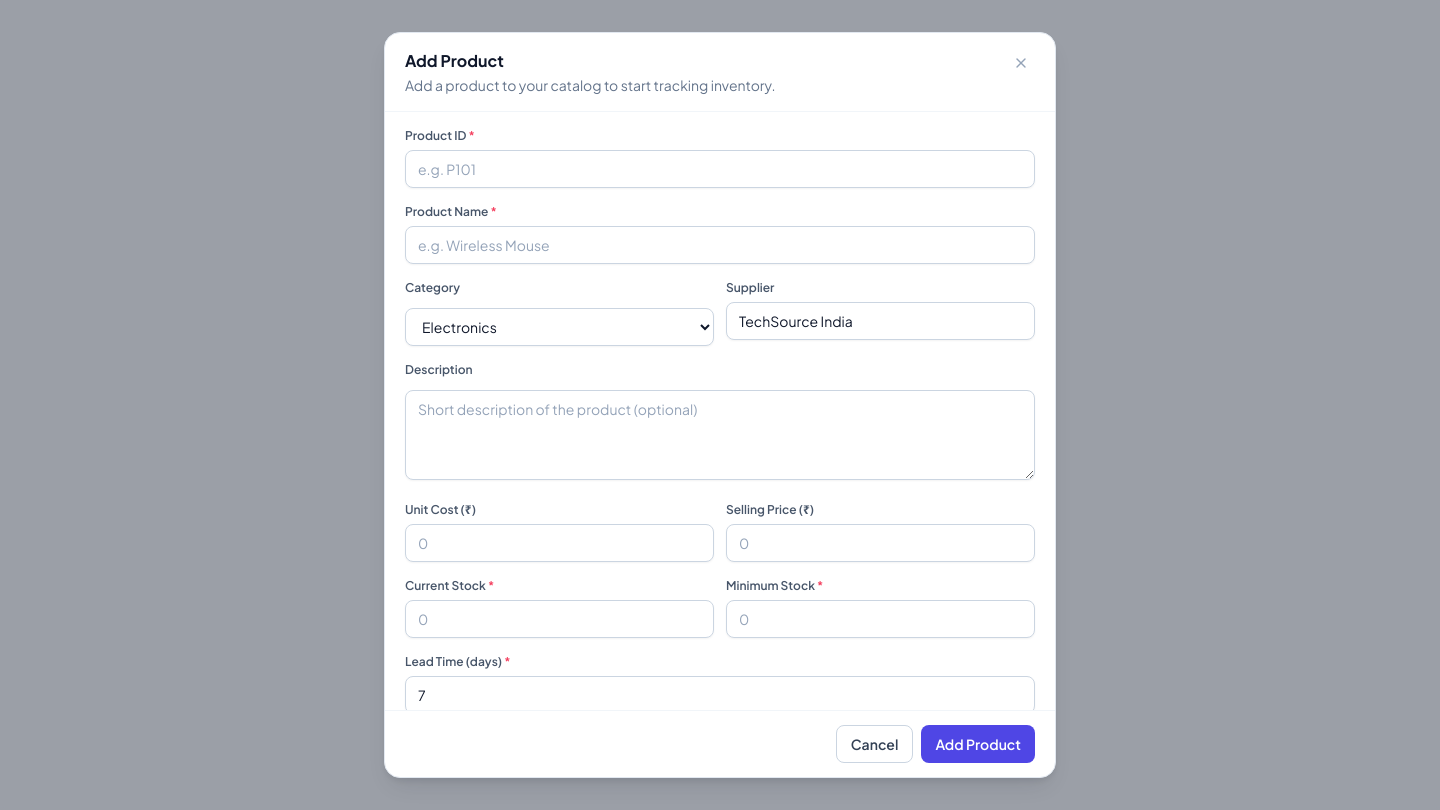
adding a product › refuses to submit while the three stock fields are empty, naming the first one
Type "P101" into the field labelled "Product ID *".
click(720, 169); type("P101")  # box [405, 150, 1035, 188]
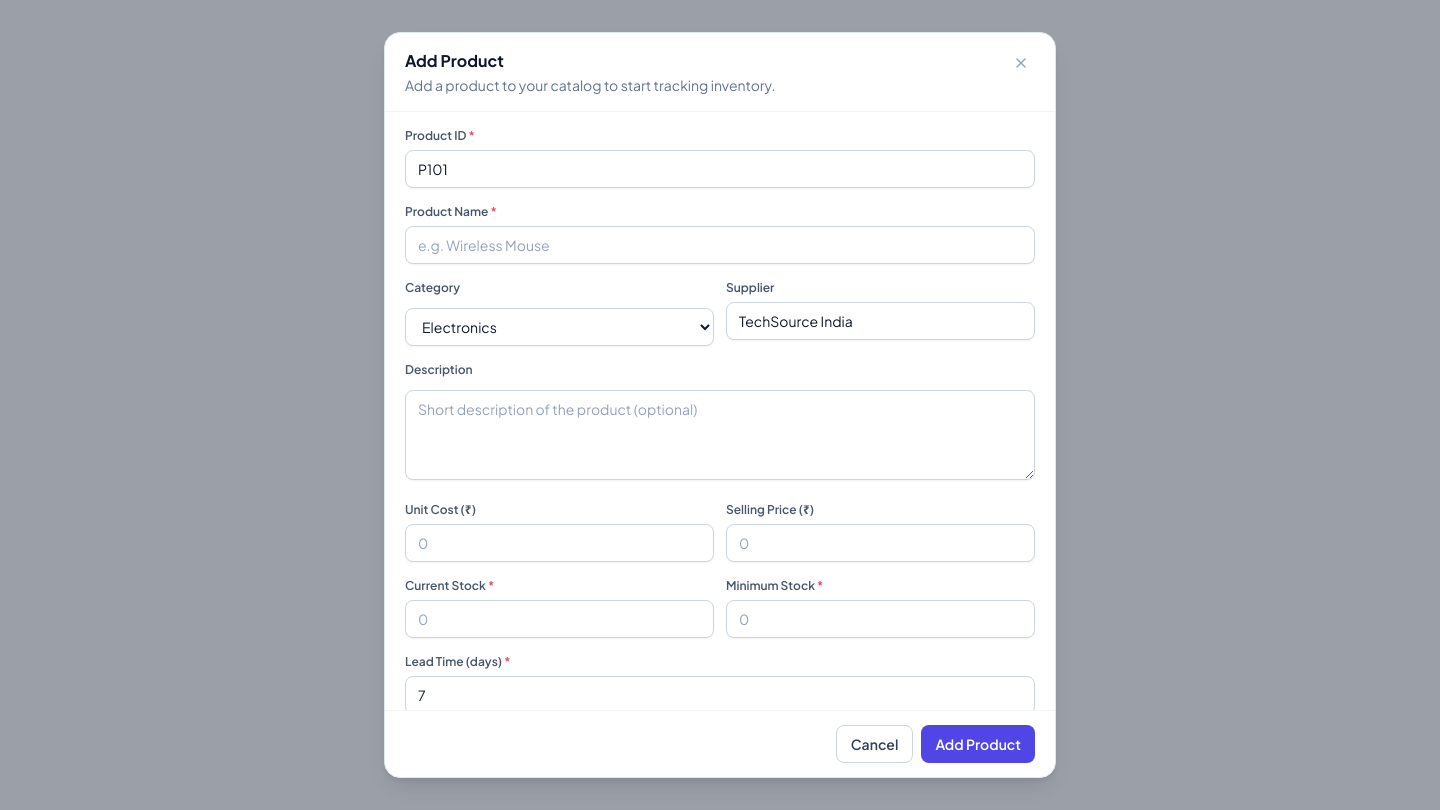
Type "Wireless Mouse" into the field labelled "Product Name *".
click(720, 245); type("Wireless Mouse")  # box [405, 226, 1035, 264]
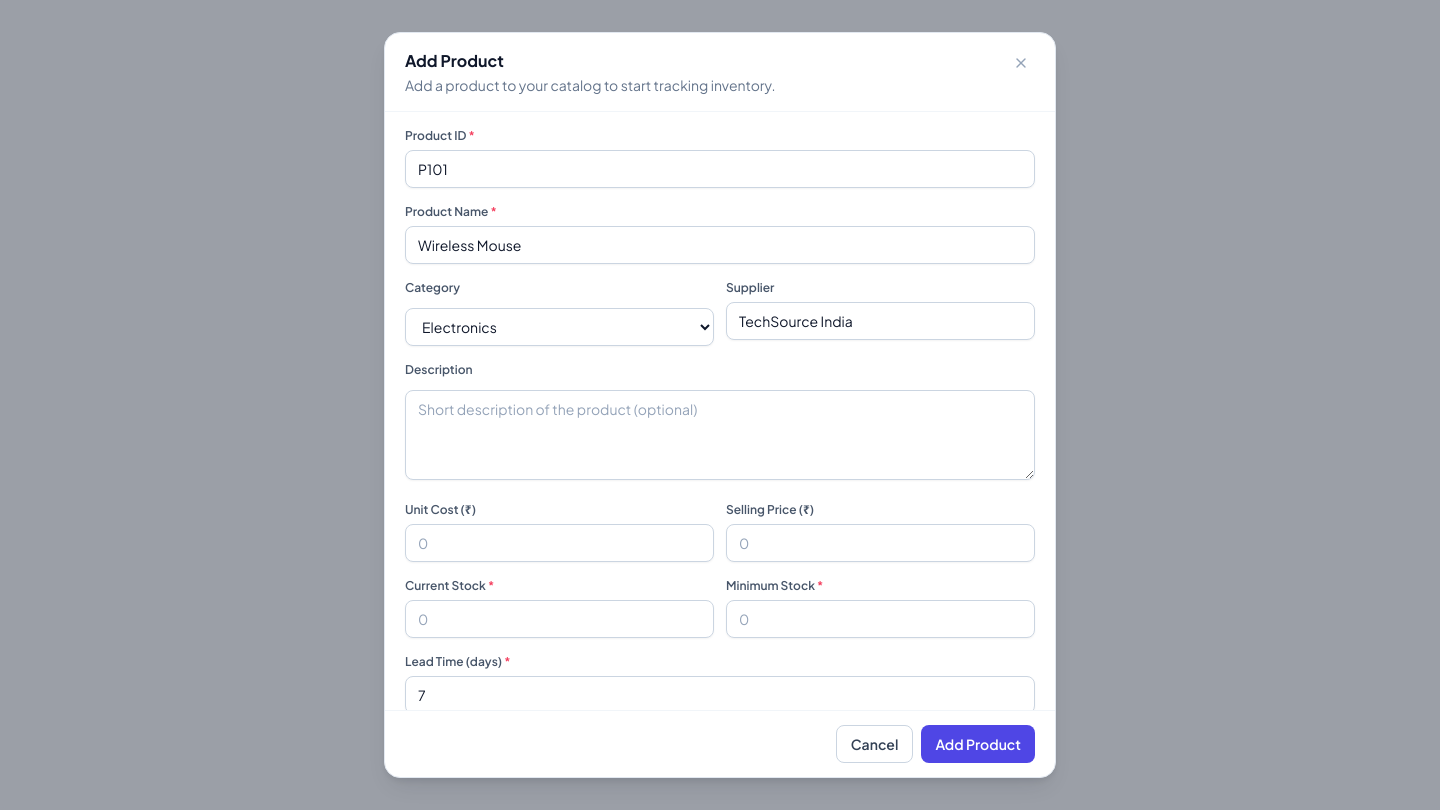
Click the button "Add Product".
click(978, 744)  # box [921, 725, 1035, 763]
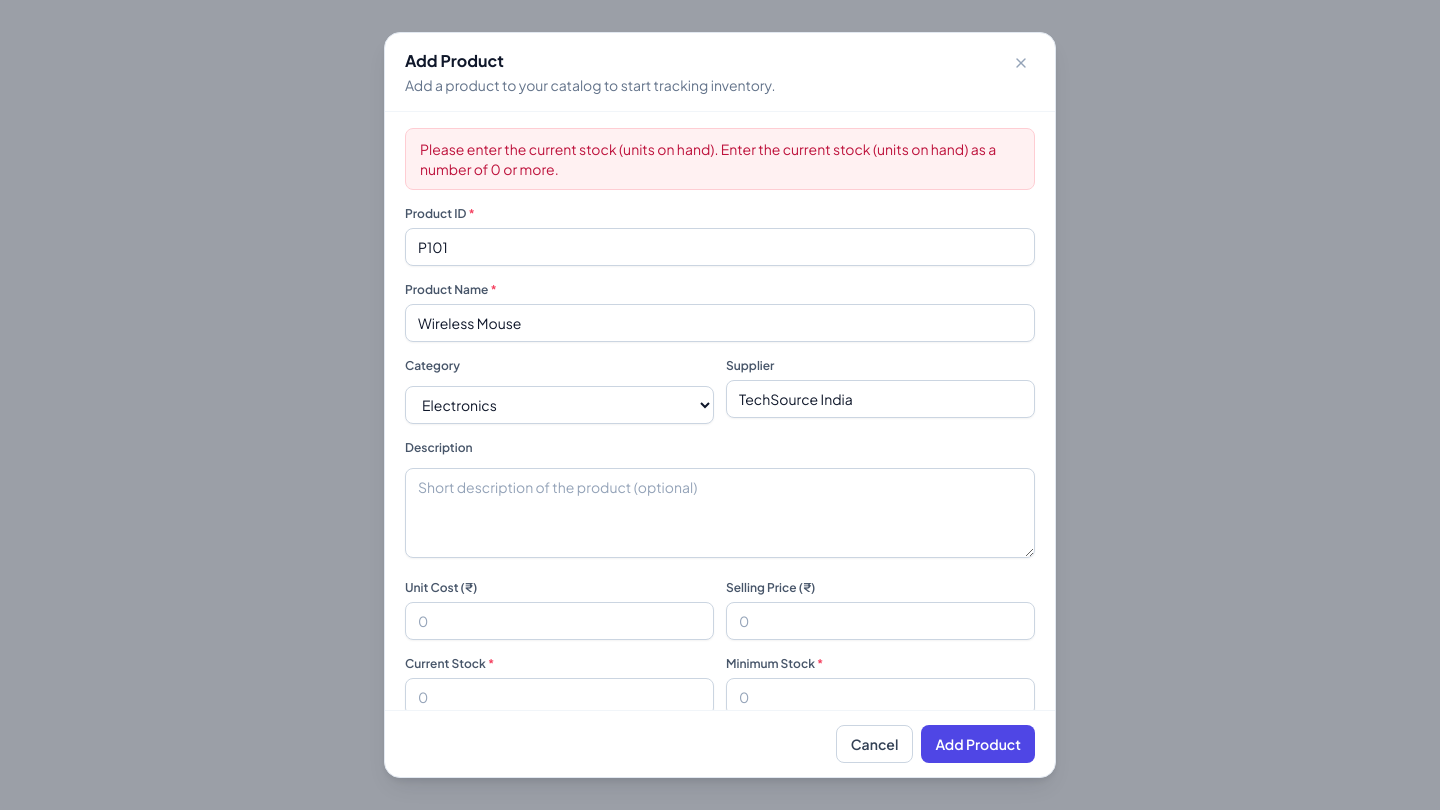
Check: the text "current stock (units on hand)" is shown, box [420, 140, 996, 178]
